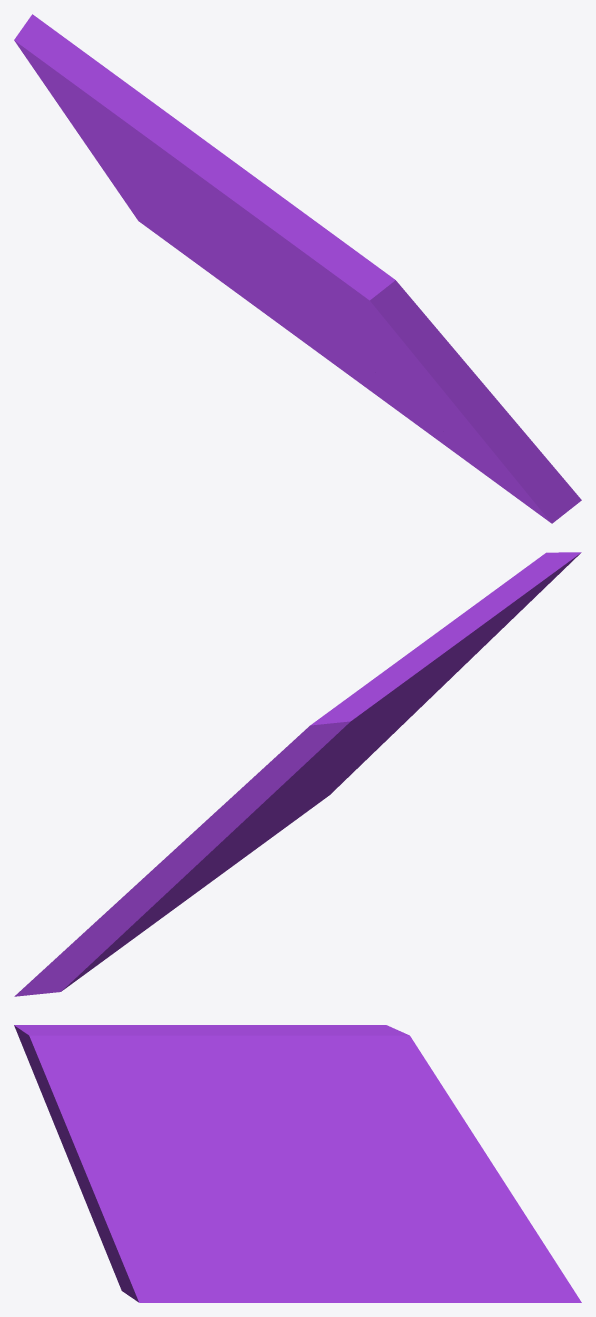
The model's file is Window_122_chunks.fbx.
The picture shows the model from 3 angles, top to bottom: view 1: azimuth 30°, elevation 25°; view 2: azimuth 150°, elevation 25°; view 3: azimuth 270°, elevation 25°; orthographic projection. The views are drawn at different scales.
Parts seen in each view (by area): view 1: Window_122_2, Window_122_0, Window_122_1, Window_122_3; view 2: Window_122_1, Window_122_0, Window_122_2, Window_122_3; view 3: Window_122_1, Window_122_2, Window_122_0, Window_122_3.
Boxes of the visible parts, x1,y1,x2,y2 form: Window_122_2: (253, 209, 553, 523); Window_122_0: (14, 14, 298, 261); Window_122_1: (45, 85, 397, 410); Window_122_3: (309, 315, 581, 522); Window_122_1: (14, 773, 320, 996); Window_122_0: (252, 599, 505, 788); Window_122_2: (301, 552, 581, 797); Window_122_3: (230, 796, 325, 867); Window_122_1: (289, 1088, 581, 1302); Window_122_2: (14, 1025, 254, 1290); Window_122_0: (130, 1025, 443, 1160); Window_122_3: (112, 1149, 304, 1302).
Size of the model in its own units: 720 by 763 by 2038.
